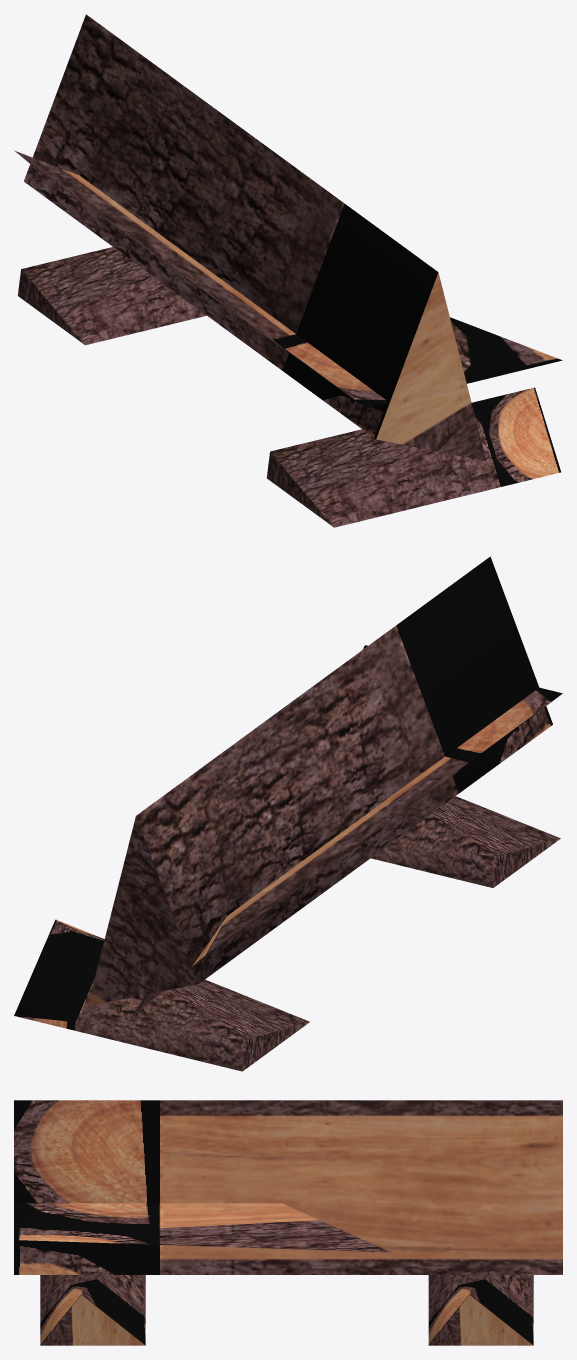
The model's file is bench_LOD2.fbx.
3 views of the same model, one above another, from view 1: azimuth 30°, elevation 25°; view 2: azimuth 150°, elevation 25°; view 3: azimuth 270°, elevation 25° (orthographic). The views are drawn at different scales.
Visible parts, largest first — view 1: fogueira002; view 2: fogueira002; view 3: fogueira002.
Boxes of the visible parts, x1,y1,x2,y2 form: fogueira002: (14,14,562,527); fogueira002: (14,556,562,1071); fogueira002: (14,1100,562,1345).
Size of the model in its own units: 16.22 by 16.83 by 43.57.
